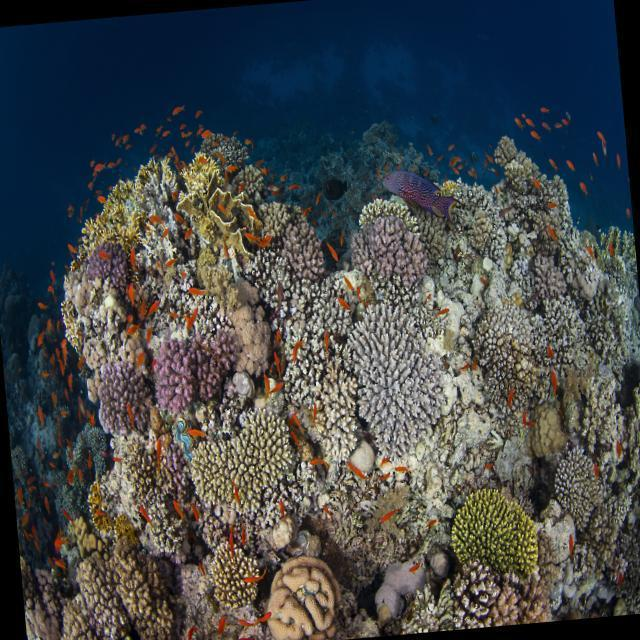Healthy Coral: (339, 295, 449, 471), (46, 526, 195, 640), (148, 324, 252, 429), (226, 551, 343, 640), (445, 490, 542, 576), (351, 188, 436, 280), (485, 312, 545, 414), (186, 193, 261, 257), (97, 367, 148, 435), (520, 400, 575, 460), (552, 453, 598, 521), (278, 222, 330, 280), (529, 250, 570, 315), (80, 246, 127, 281)
